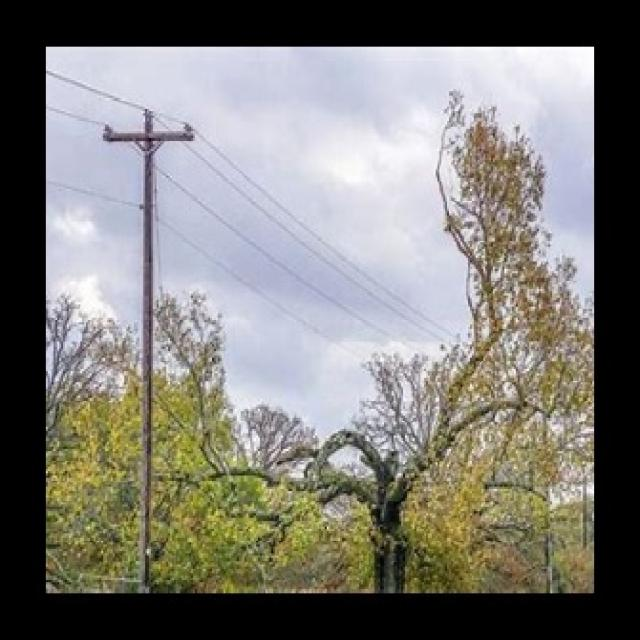utility poles: (85, 88, 211, 594)
